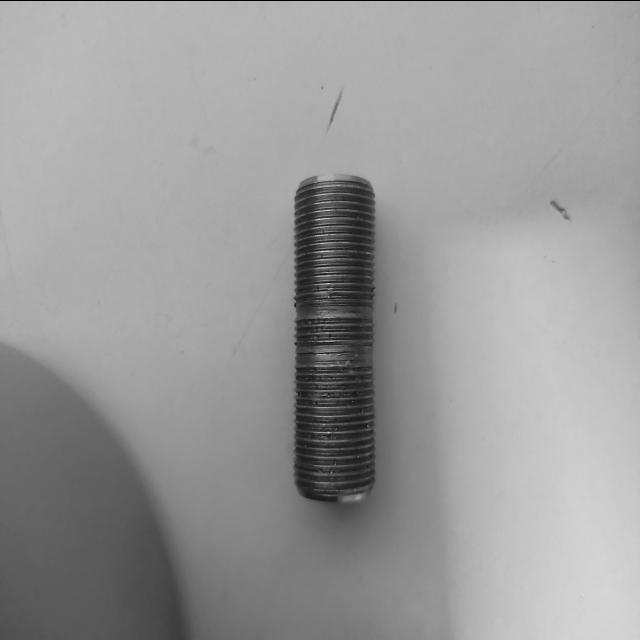Broken: (292, 172, 377, 500)
